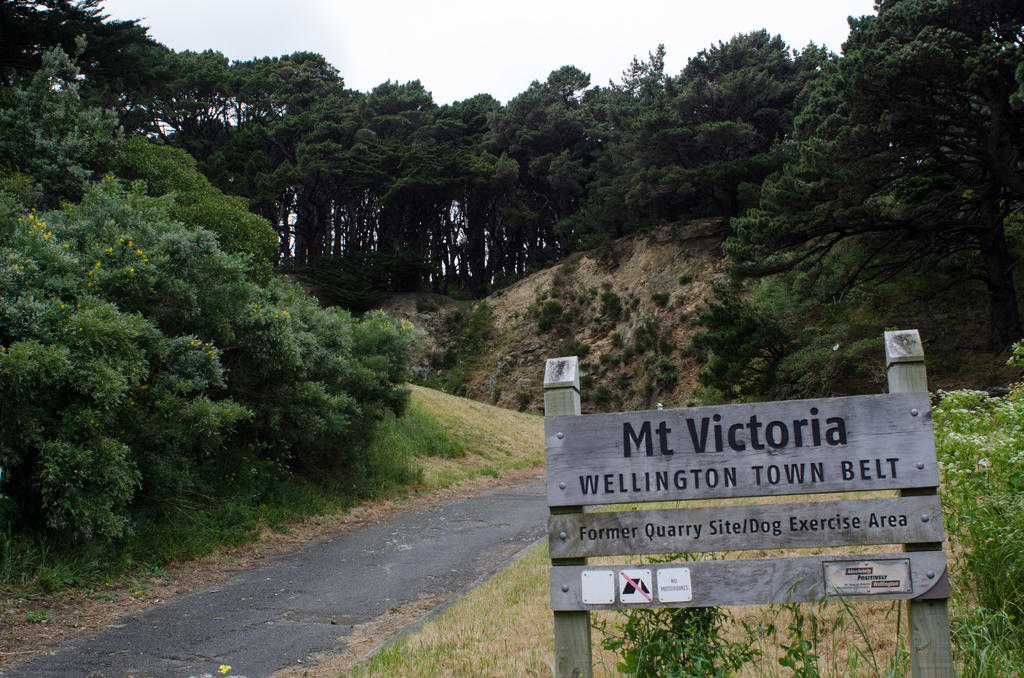Tree: (0, 0, 1023, 605), (755, 33, 1024, 371)
